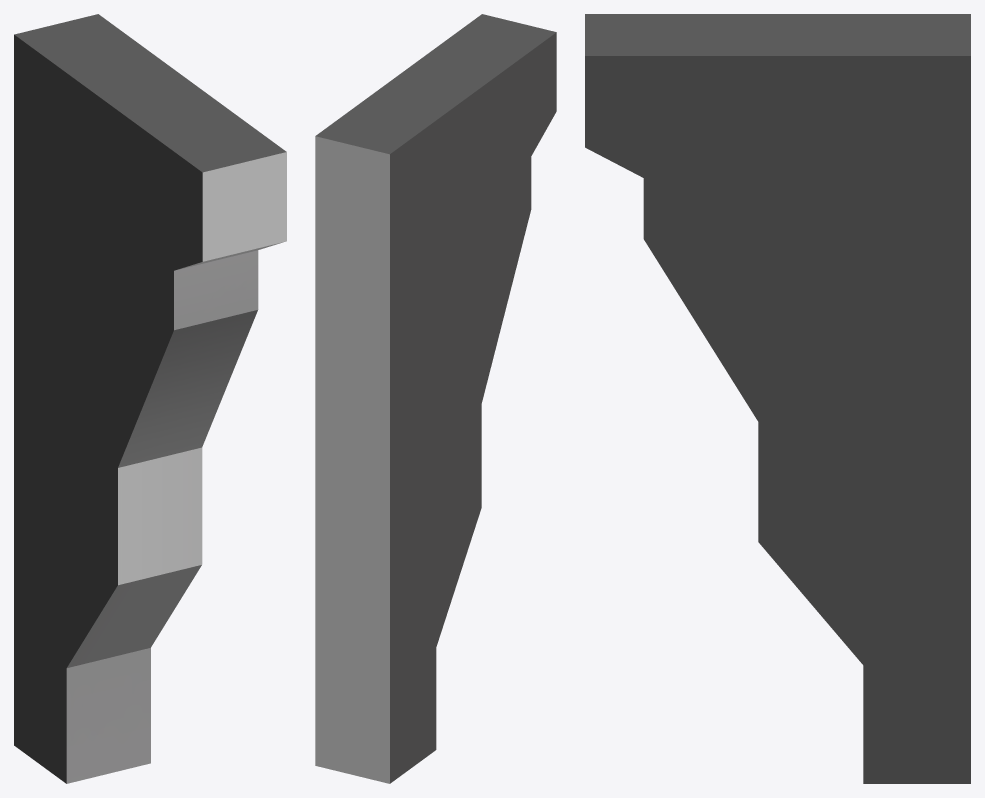
Rendered from Wall_Trim_Top.fbx.
3 renders of one model, left to right at view 1: azimuth 30°, elevation 25°; view 2: azimuth 150°, elevation 25°; view 3: azimuth 270°, elevation 25°, orthographic. The views are drawn at different scales.
Parts seen in each view (by area): view 1: Cube; view 2: Cube; view 3: Cube.
Boxes of the visible parts, box(x1,y1,x2,y2) form: Cube: box(14, 14, 286, 783); Cube: box(315, 14, 556, 783); Cube: box(585, 14, 970, 783).
Bounding box in the file's own units: 0.0812 × 0.6552 × 0.3148.
